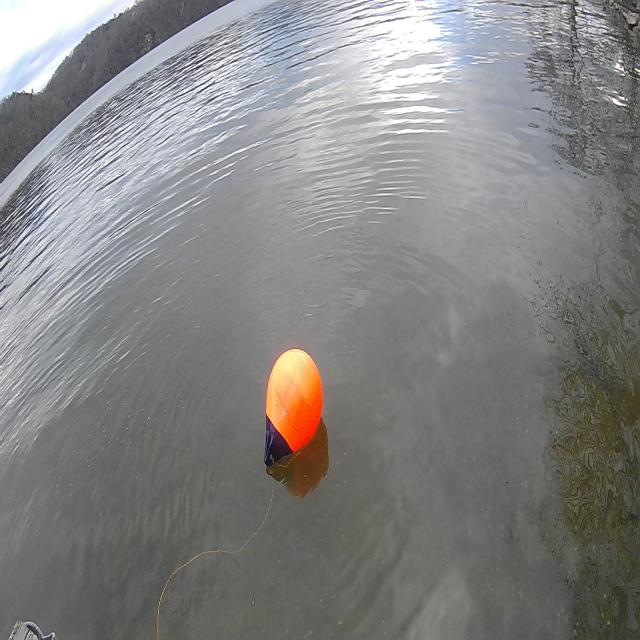Buoy: (262, 341, 329, 471)
